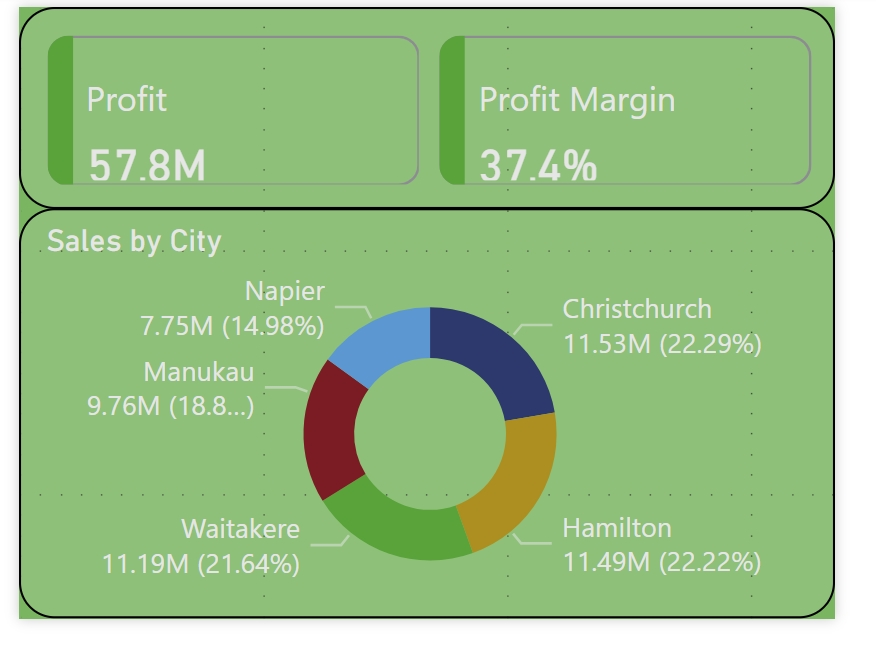

The page's visual inventory and layout, read from the dashboard file:
{"tool":"powerbi","page":{"name":"Tooltip","canvas":[320,240],"ordinal":2},"visuals":[{"type":"cardVisual","fields":{"Data":["Measure Table.Profit","Measure Table.Profit Margin"]},"box":[0,0,320,79],"z":0},{"type":"donutChart","fields":{"Y":["Measure Table.Sales"],"Category":["Regions_Table.City"]},"box":[0,79,320,161],"z":1000}]}

Visuals, with their boxes in screenshot pixels (x1, y1, x2, y2), scaled from the page's 320x240 canvas onto the 876x650 screenshot:
cardVisual - Measure Table.Profit x Measure Table.Profit Margin: select_region(0, 0, 875, 214)
donutChart - Measure Table.Sales x Regions_Table.City: select_region(0, 214, 875, 649)
